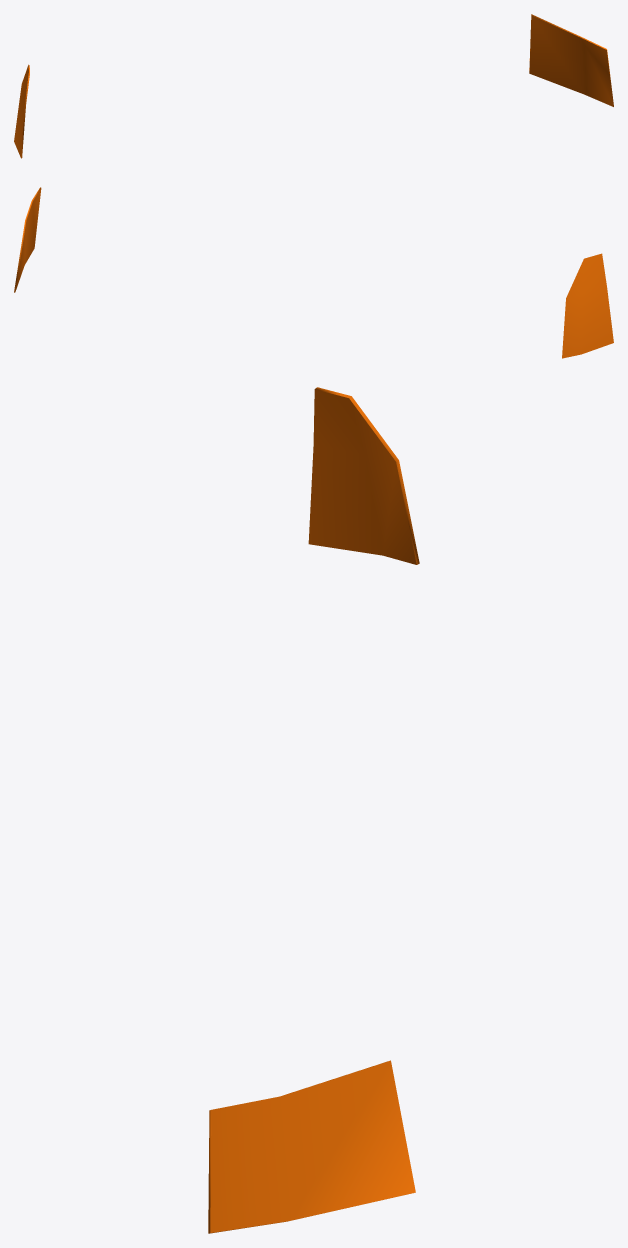
Rendered from suv-indicator-left.dae.
3 views of the same model, one above another, from view 1: azimuth 30°, elevation 25°; view 2: azimuth 150°, elevation 25°; view 3: azimuth 270°, elevation 25° (orthographic). The views are drawn at different scales.
Parts seen in each view (by area): view 1: SUVBlinker-Left; view 2: SUVBlinker-Left; view 3: SUVBlinker-Left.
Part boxes in pixels (left/top/right/bottom): SUVBlinker-Left: left=14, top=14, right=613, bottom=158; SUVBlinker-Left: left=14, top=187, right=613, bottom=358; SUVBlinker-Left: left=208, top=387, right=419, bottom=1233.
Size of the model in its own units: 0.9304 by 0.15 by 0.2367.
